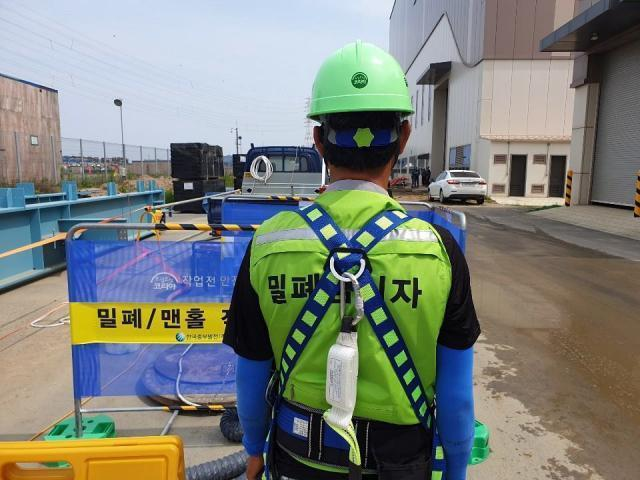helmet: (306, 39, 413, 119)
